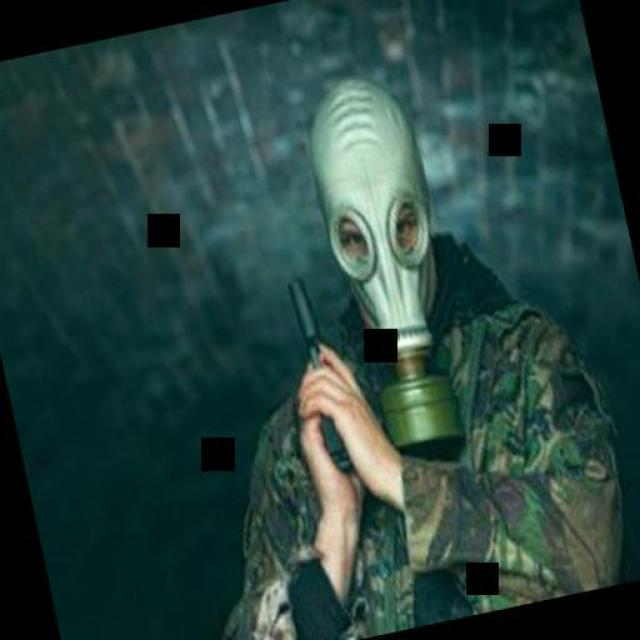gun: (265, 258, 379, 492)
